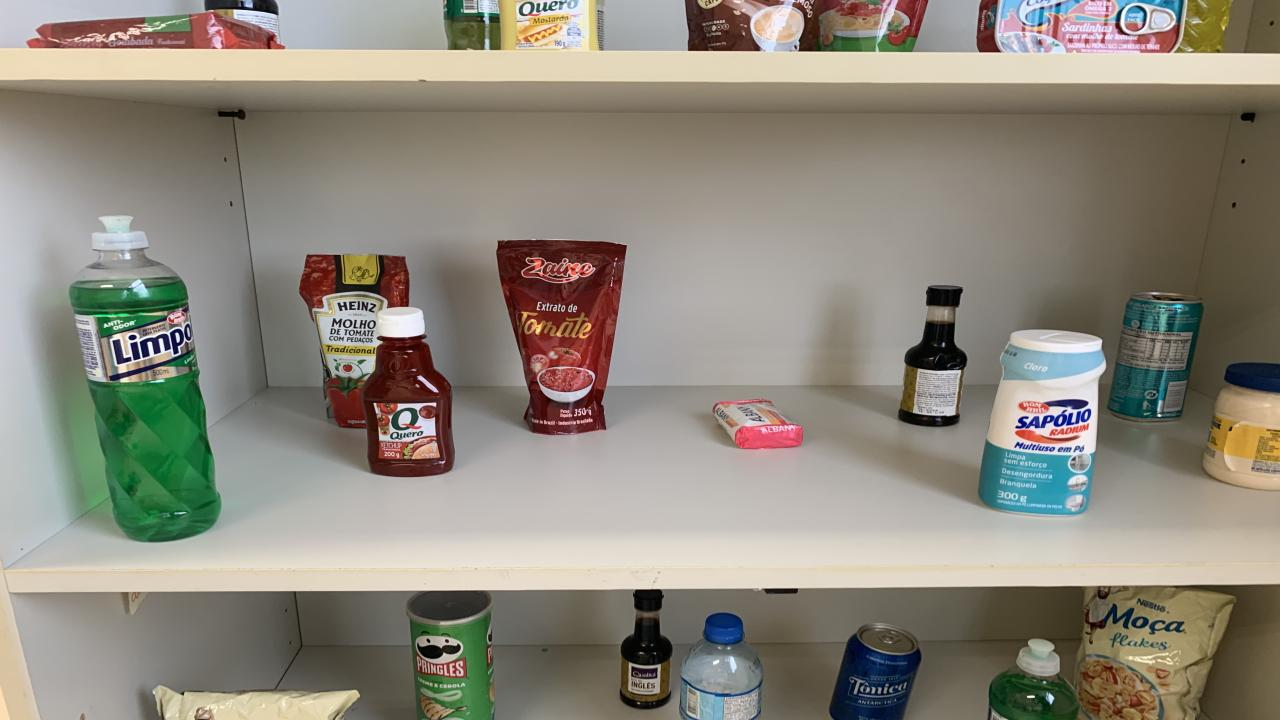Cleaner-Cleanup_Items: (980, 332, 1105, 516)
Coffee-Pantry_Items: (685, 0, 818, 51)
Detergent-Cleanup_Items: (70, 218, 220, 542), (988, 639, 1080, 720), (1178, 0, 1232, 52)
English_Sauce-Pantry_Items: (898, 285, 968, 426), (620, 589, 672, 709), (205, 0, 280, 39)
Flakes-Snacks: (1075, 587, 1235, 720), (152, 686, 360, 720)
Guarana-Drinks: (442, 0, 500, 51)
Guava-Snacks: (28, 11, 282, 49)
Ketchup-Pantry_Items: (362, 308, 455, 476)
Mayonnaise-Pantry_Items: (1202, 364, 1280, 489)
Mustard-Pantry_Items: (500, 0, 602, 51)
Pringles-Snacks: (408, 591, 495, 720)
Soap-Cleanup_Items: (712, 399, 802, 448)
Tea-Drinks: (1108, 292, 1202, 422)
Tomato_Sauce-Pantry_Items: (498, 240, 625, 435), (300, 255, 410, 428), (818, 0, 928, 52)
Tonic-Drinks: (830, 622, 922, 720)
Tuna_Can-Pantry_Items: (990, 0, 1188, 52)
Water_Bottle-Drinks: (680, 613, 762, 720)
